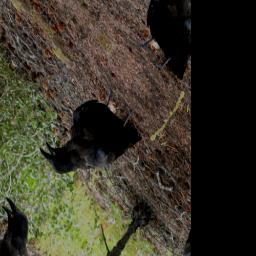Crow: (37, 64, 151, 216)
